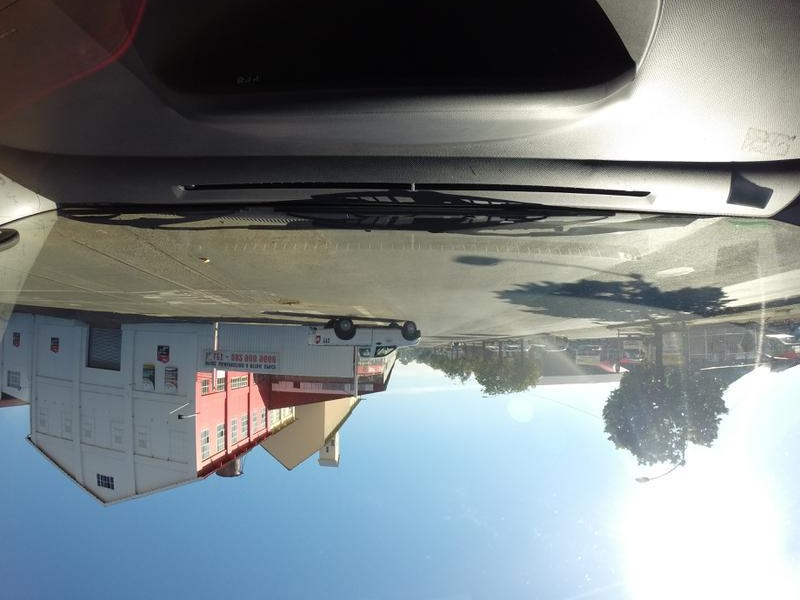pothole: (276, 297, 303, 304)
